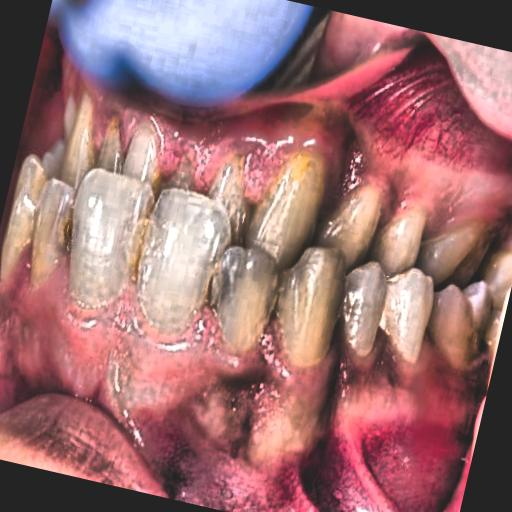Gingivitis: (0, 260, 437, 489), (155, 70, 512, 268)
